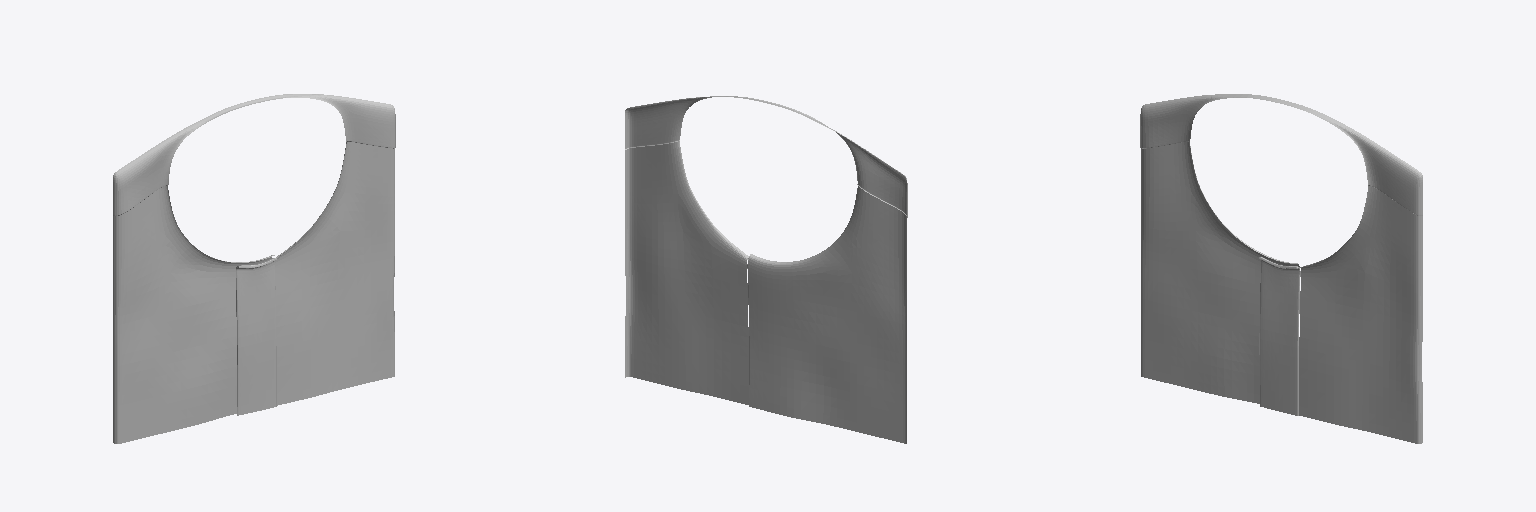
File: shirt 2019-11-29.obj
3 renders of one model, left to right at view 1: azimuth 30°, elevation 25°; view 2: azimuth 150°, elevation 25°; view 3: azimuth 330°, elevation 25°, orthographic.
Parts seen in each view (by area): view 1: body_shirt001; view 2: body_shirt001; view 3: body_shirt001.
Boxes of the visible parts, box(x1,y1,x2,y2) form: body_shirt001: box(113, 94, 395, 443); body_shirt001: box(625, 96, 907, 443); body_shirt001: box(1140, 94, 1422, 443).
Size of the model in its own units: 2.53 by 2.64 by 0.0715.